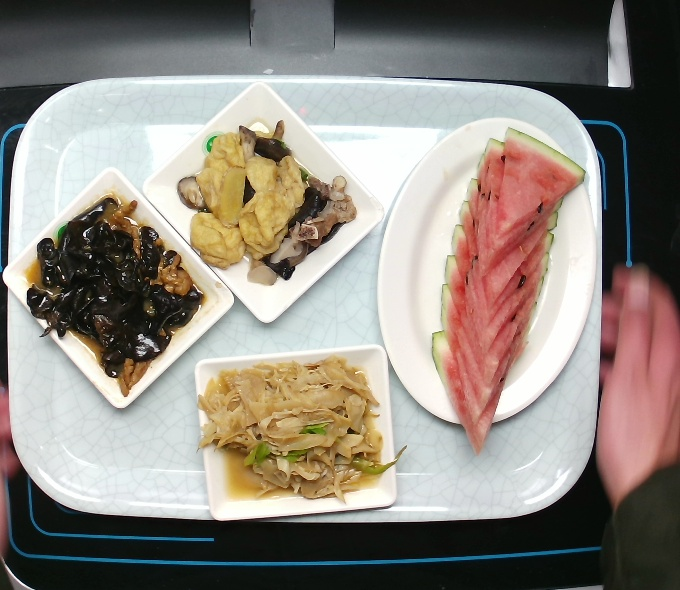wcq-LuSun: (196, 348, 392, 505)
wcq-MuErChaoRou: (20, 196, 210, 399)
wcq-XiGua: (432, 130, 604, 458)
wcq-YouPaoPaiGu: (172, 106, 358, 291)
